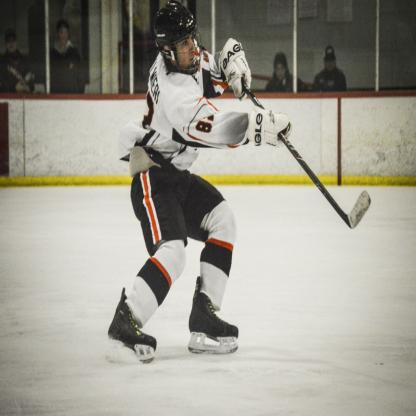Helmet: (153, 5, 202, 64)
